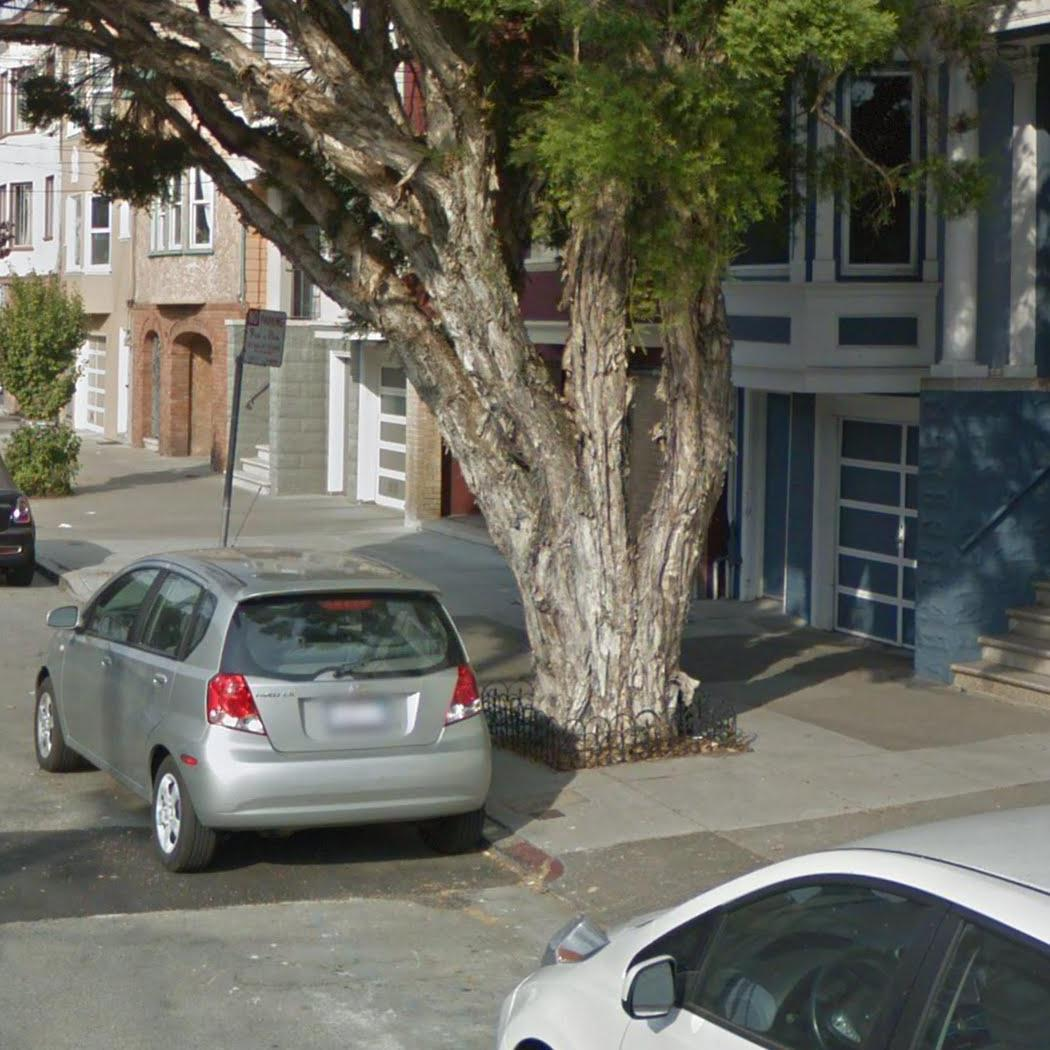No Parking: (240, 306, 289, 369)
